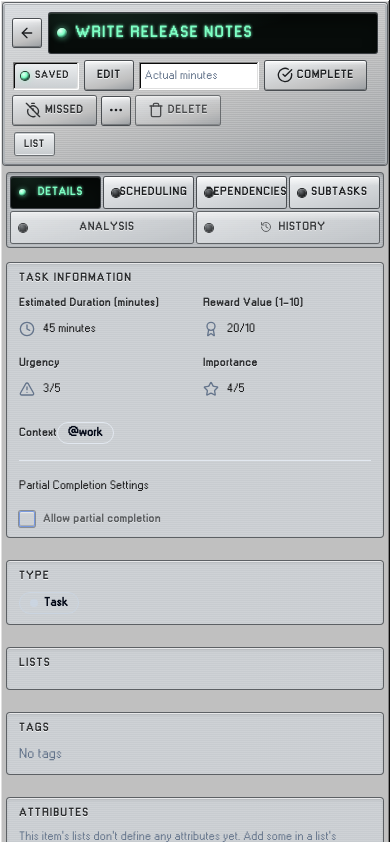
Scenario: EnhancedTaskDetail › enters edit mode and saves estimated duration to the store
Click the button "Edit" at (109, 76), box left=85, top=61, right=133, bottom=90
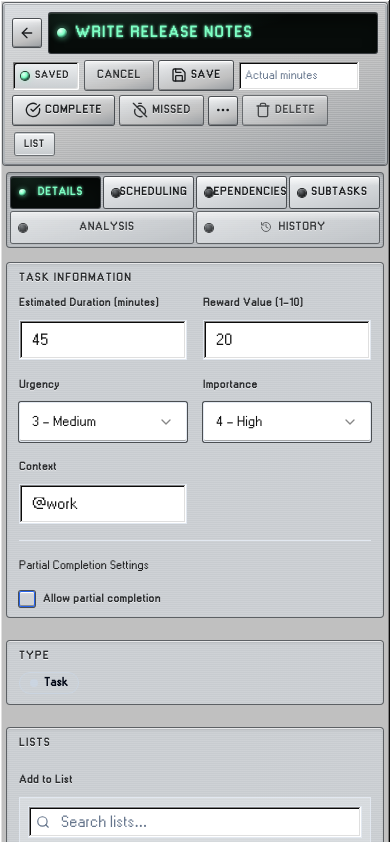
Clear the number field labelled "Estimated Duration (minutes)" at (103, 340), box left=19, top=320, right=187, bottom=360
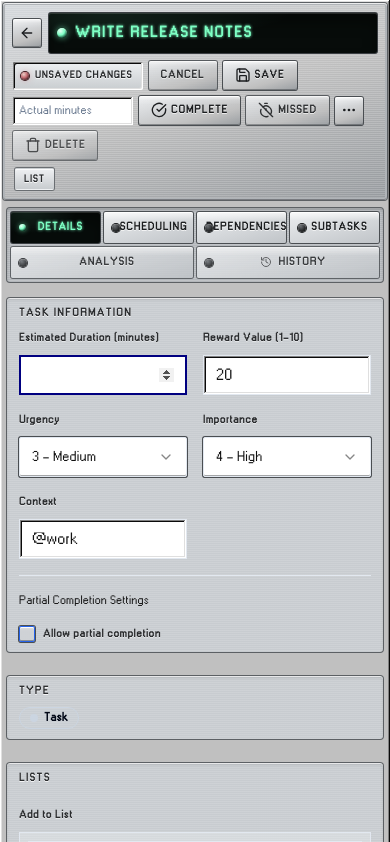
Type "90" into the number field labelled "Estimated Duration (minutes)" at (103, 375), box left=19, top=355, right=187, bottom=395
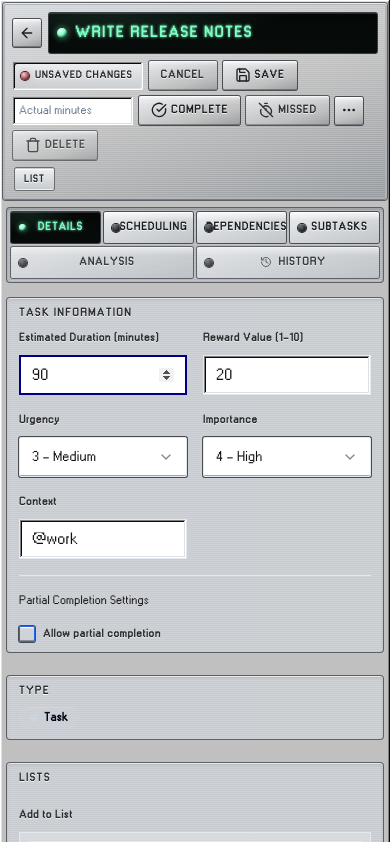
expect the message reads "Unsaved changes": met, box left=35, top=70, right=133, bottom=80
Click the button "Save" at (260, 76), box left=223, top=61, right=296, bottom=90
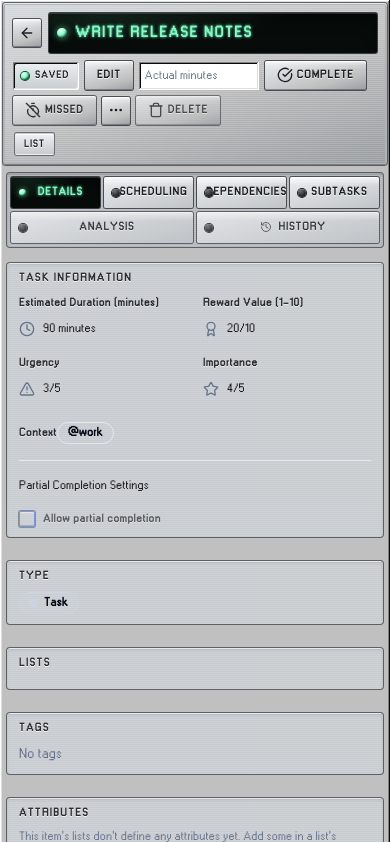
expect the message reads "Saved": met, box left=35, top=70, right=69, bottom=80
Click the tab "History" at (288, 228), box left=197, top=212, right=379, bottom=243
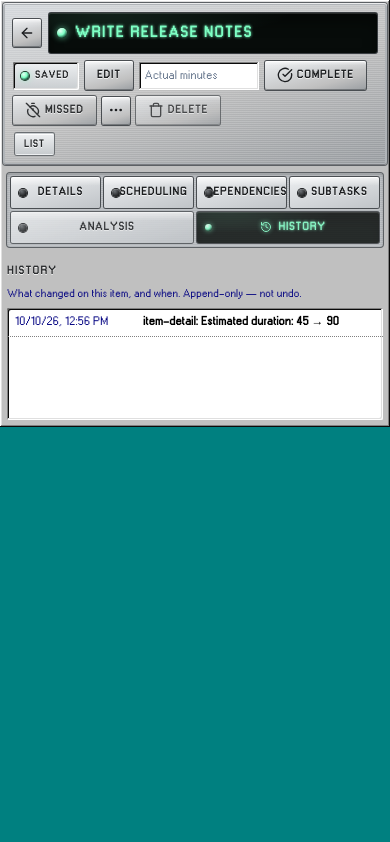
expect the text "item-detail: Estimated duration: 45 → 90" is shown: met, box left=143, top=316, right=339, bottom=327
